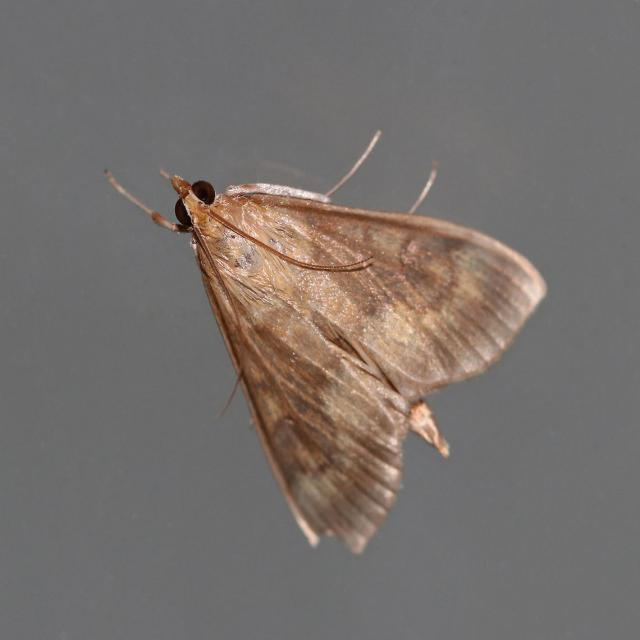cornborer-Adult-: (43, 119, 556, 562)
